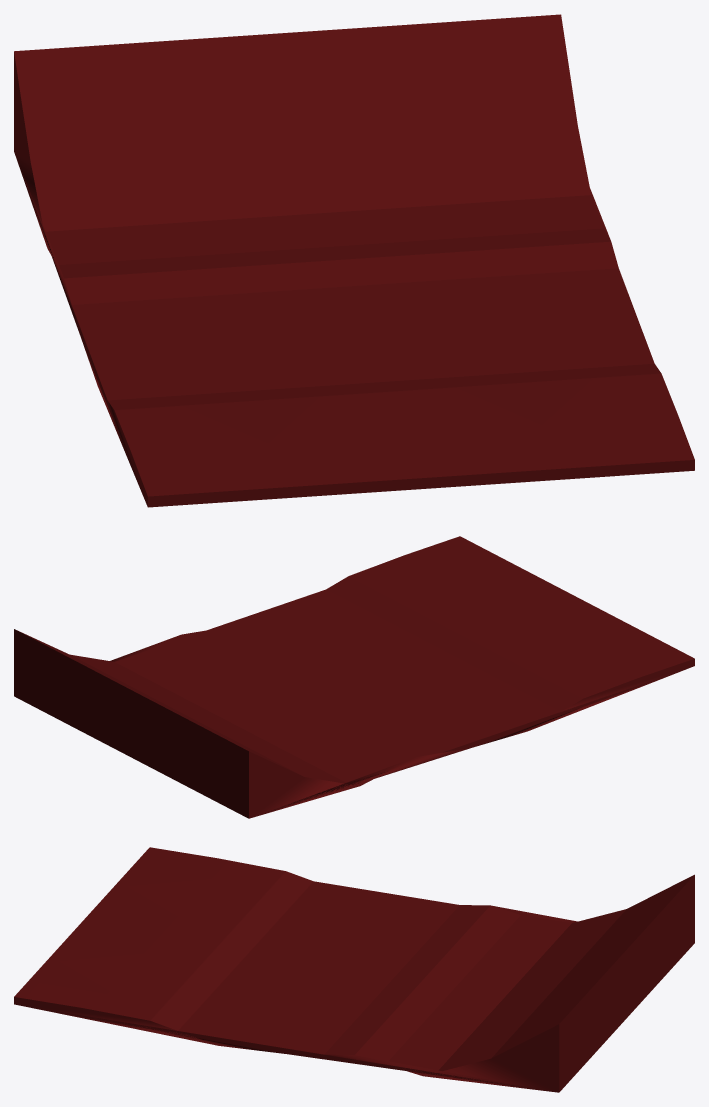
The model's file is Ramp_Right__1_.fbx.
3 views of the same model, one above another, from view 1: azimuth 30°, elevation 25°; view 2: azimuth 150°, elevation 25°; view 3: azimuth 270°, elevation 25° (orthographic). The views are drawn at different scales.
Visible parts, largest first — view 1: Ramp_Right__1_; view 2: Ramp_Right__1_; view 3: Ramp_Right__1_.
Boxes of the visible parts, bbox=[...] form: Ramp_Right__1_: bbox=[14, 14, 694, 507]; Ramp_Right__1_: bbox=[14, 536, 694, 818]; Ramp_Right__1_: bbox=[14, 847, 694, 1092].
Size of the model in its own units: 225 by 33.91 by 272.
